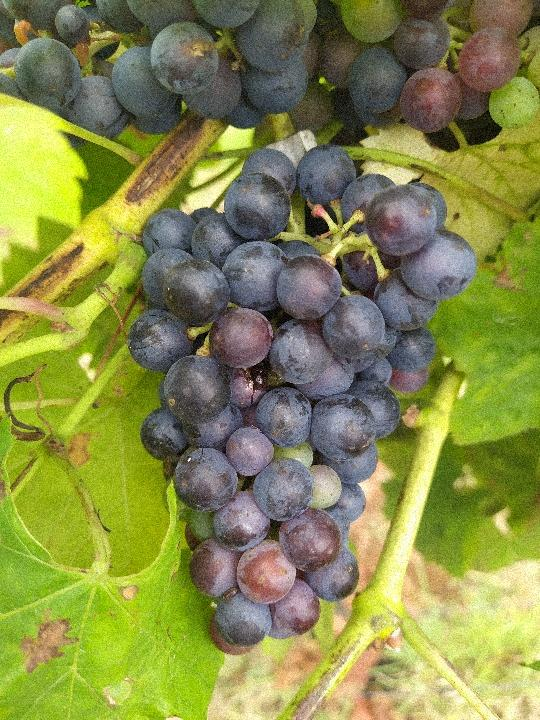grape: (120, 141, 487, 660)
